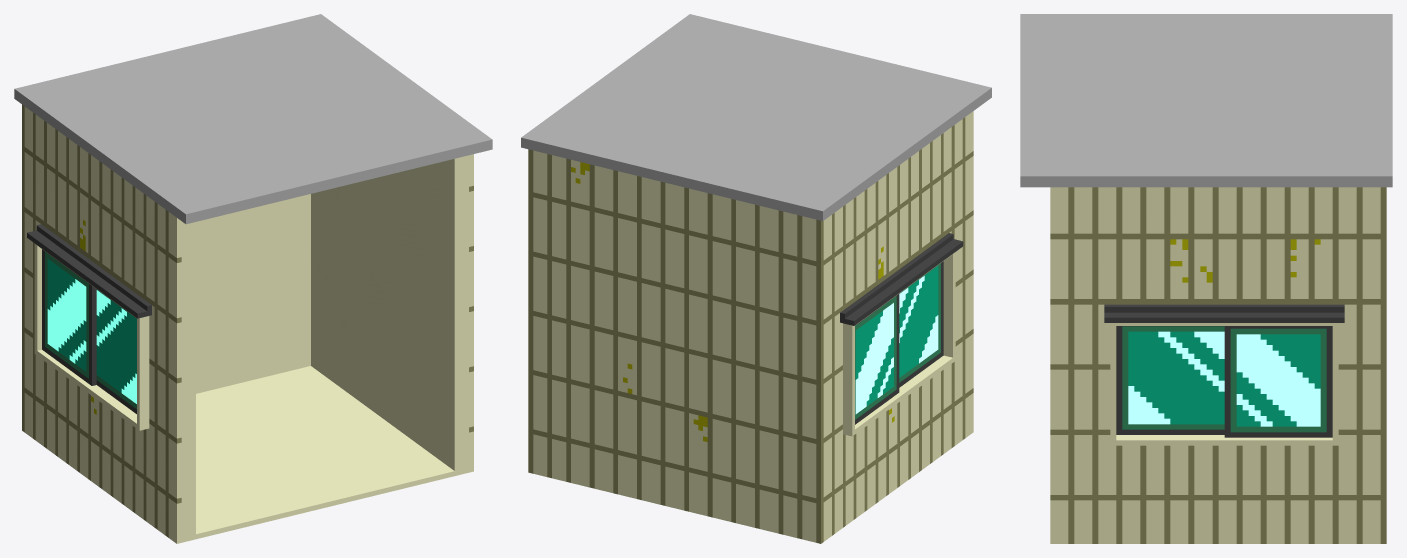
The model's file is typeFive.glb.
3 views of the same model, side by side, from view 1: azimuth 30°, elevation 25°; view 2: azimuth 150°, elevation 25°; view 3: azimuth 270°, elevation 25° (orthographic). The views are drawn at different scales.
Parts seen in each view (by area): view 1: ObjObject; view 2: ObjObject; view 3: ObjObject.
Boxes of the visible parts, x1,y1,x2,y2 form: ObjObject: [14, 14, 492, 543]; ObjObject: [521, 14, 991, 543]; ObjObject: [1020, 14, 1392, 543].
Bounding box in the file's own units: 6.8 × 6.8 × 6.2.
Materials: 3 (1 with a texture image).
